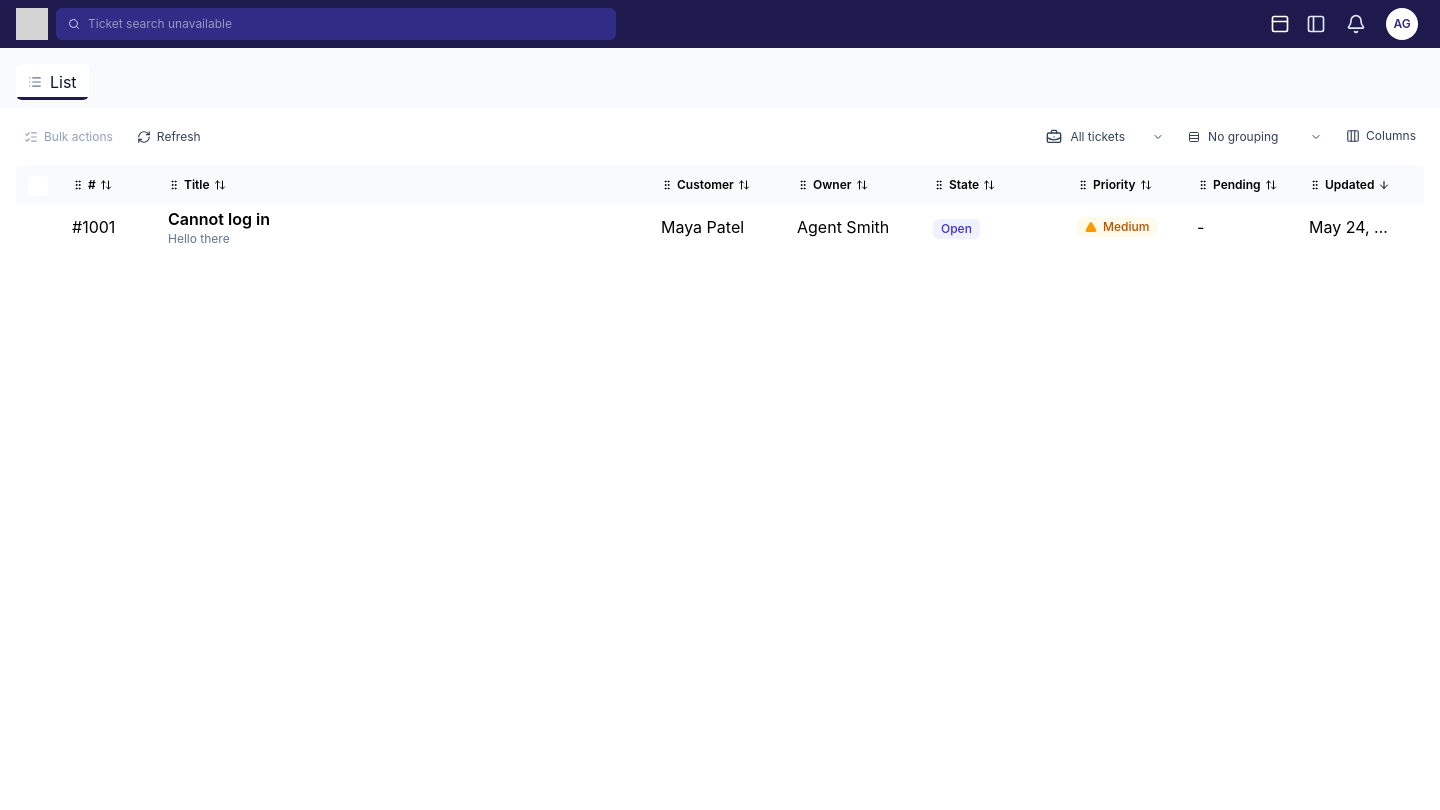
it: TicketWorkspace AI settings › shows users status only for admin-managed AI settings
Click the button with aria-label "Open profile menu, Support".
click(1402, 24)  # box [1380, 4, 1424, 44]
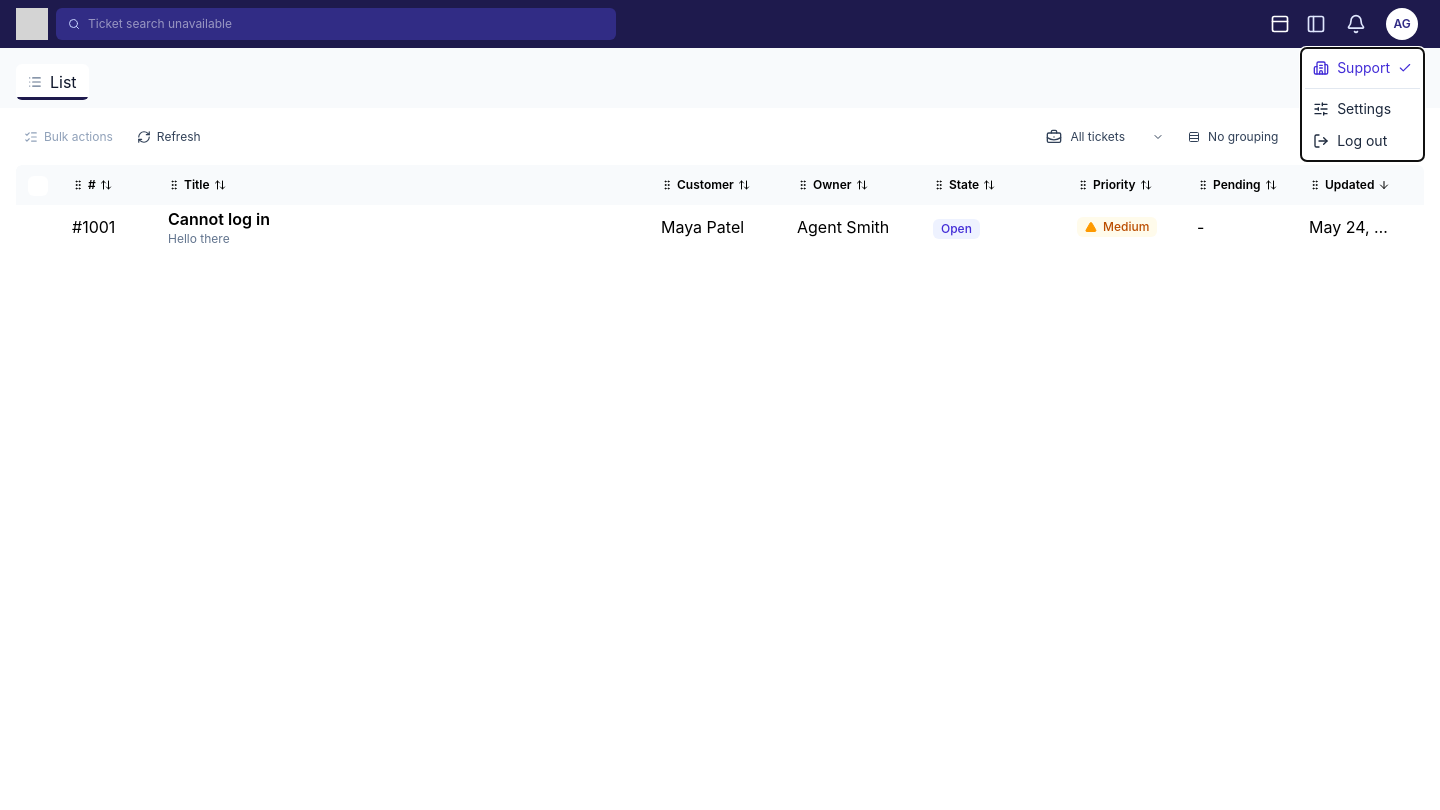
Click the menu item "Settings".
click(1363, 109)  # box [1305, 93, 1420, 125]
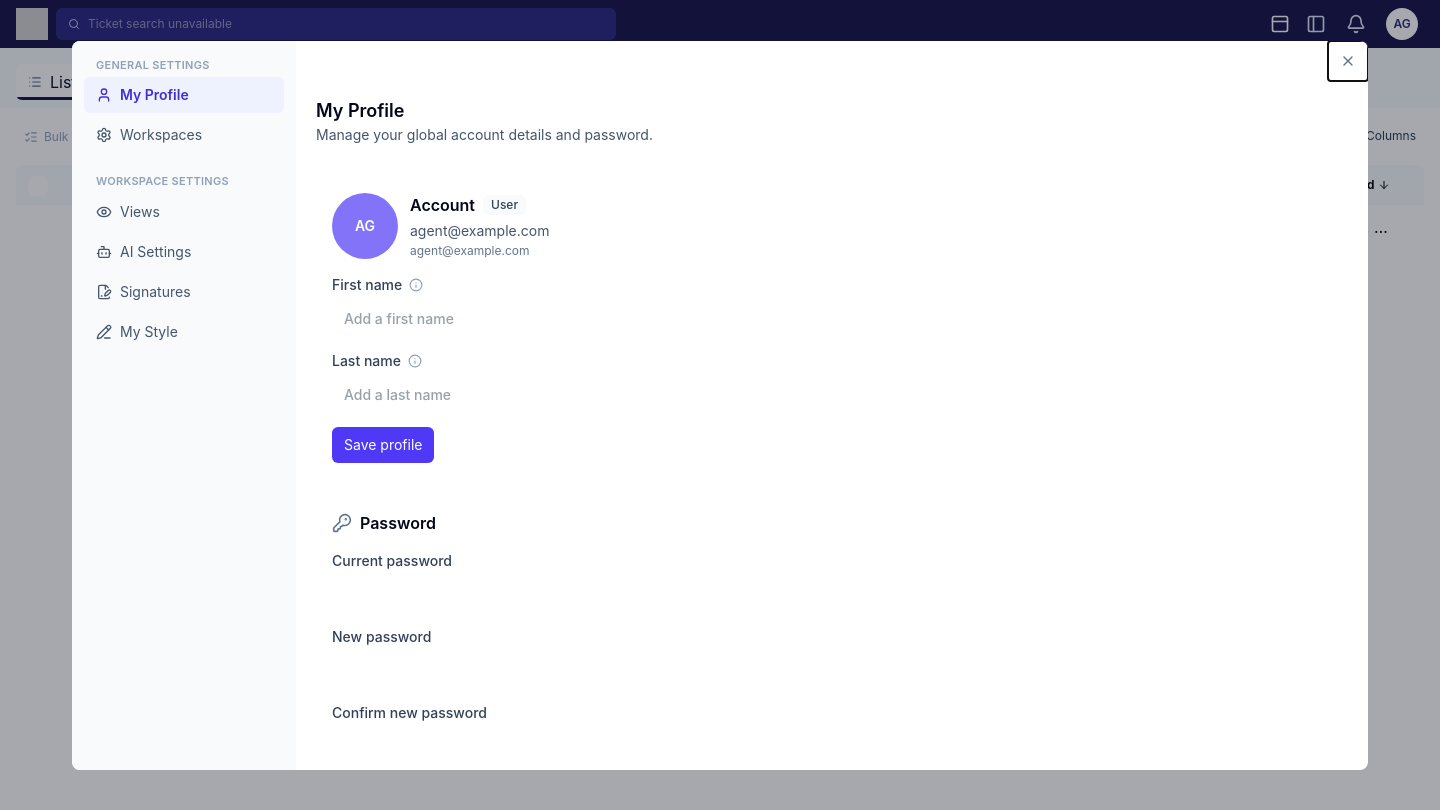
Click the button "AI Settings".
click(184, 252)  # box [84, 234, 284, 270]
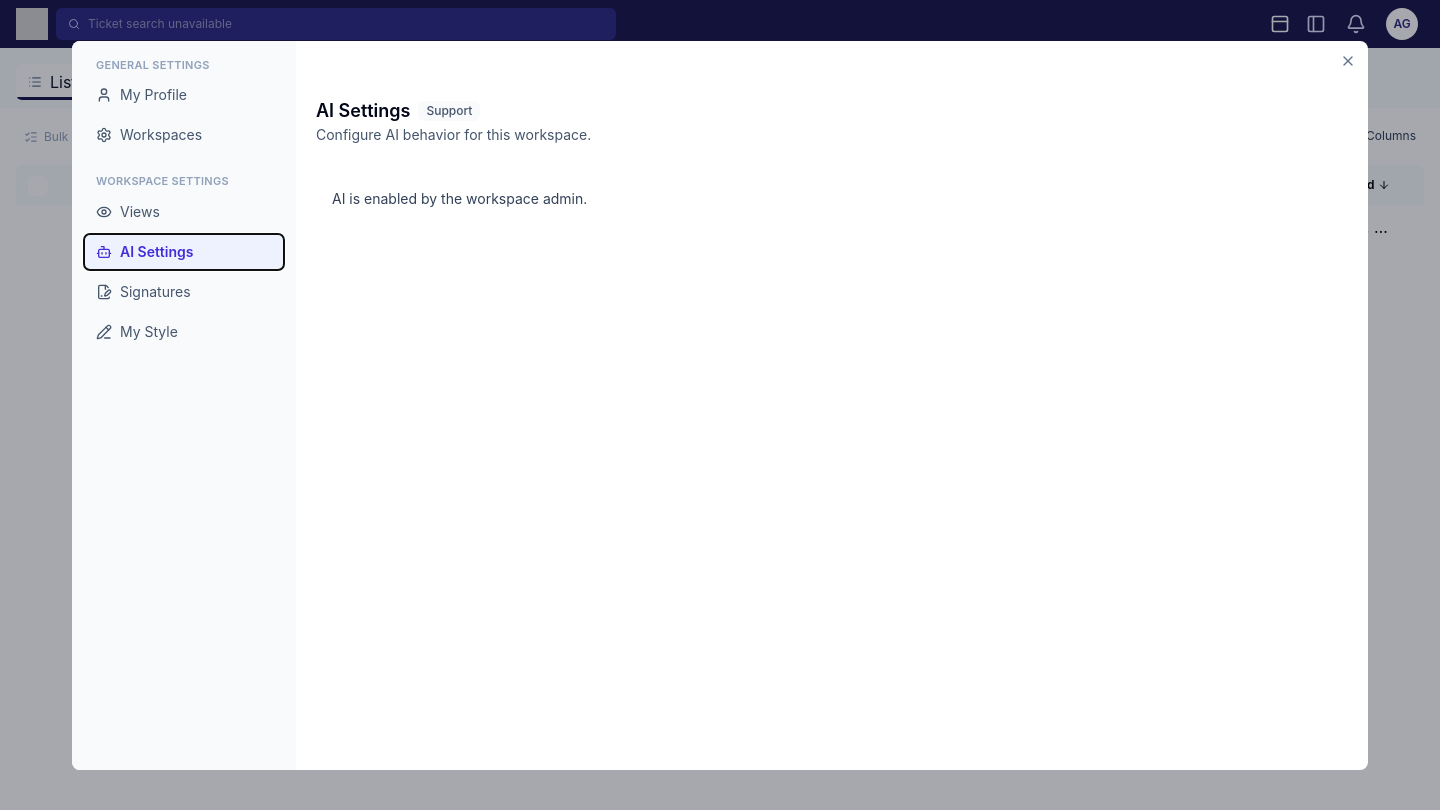
Expected: the text "AI is enabled by the workspace admin." is shown, [316, 176, 1348, 220]
